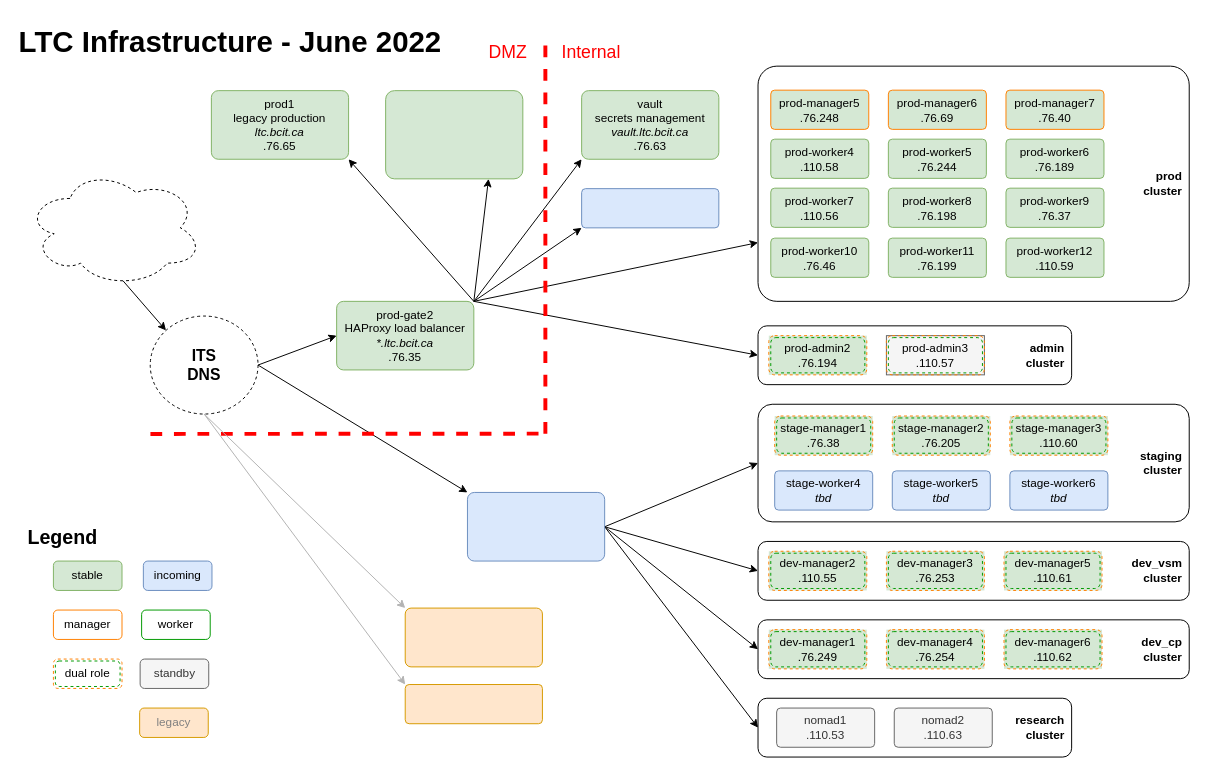
This 1206x774 diagram has some shape labels left out. Here are the shapes that lost their labels. From the top down, the centre of each, then its label:
At pixel 454 134: "prod4 GitLab VCS issues.ltc.bcit.ca mattermost.ltc.bcit.ca .76.41".
At pixel 113 227: "Internet".
At pixel 650 208: "utility1 tbd".
At pixel 535 526: "dev-gate3 HAProxy load balancer *.dev.ltc.bcit.ca .110.54".
At pixel 473 637: "prod-admin1 rancher.ltc.bcit.ca .110.51".
At pixel 473 704: "prod-worker1 .76.62".
